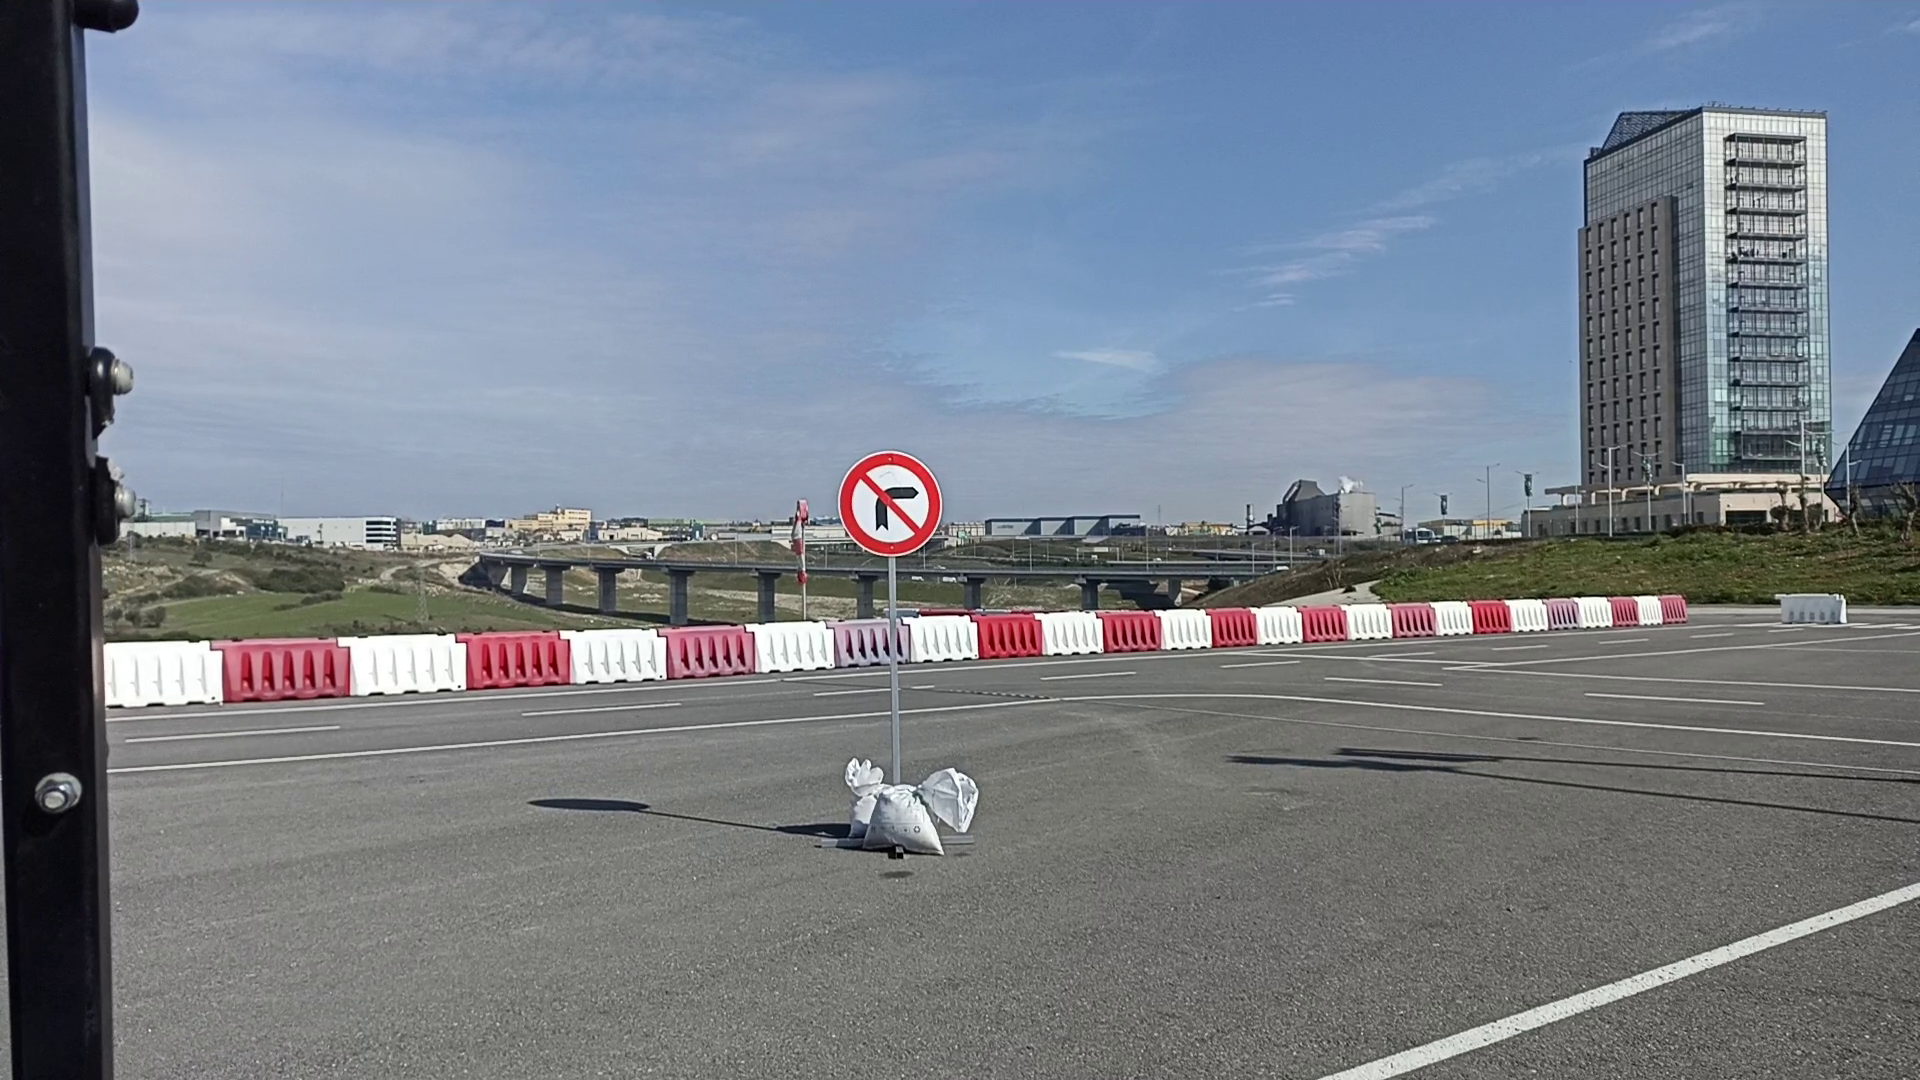noleftturn: (836, 448, 945, 559)
